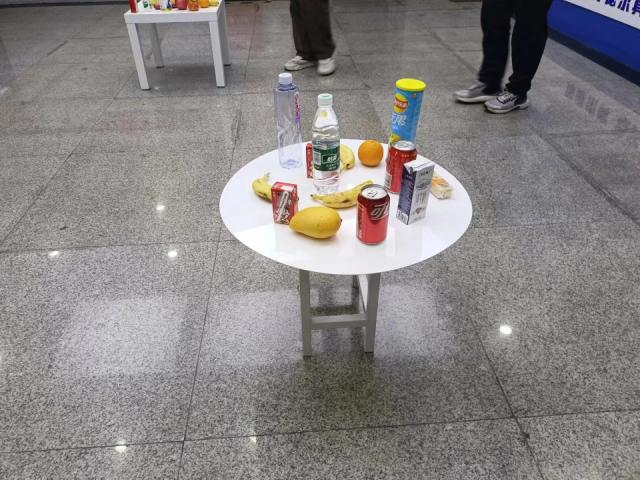Canned_drinks: (354, 182, 391, 248), (384, 139, 417, 197)
bottle: (270, 70, 306, 170), (312, 91, 341, 195)
cylinder: (390, 75, 424, 162)
drink_box: (398, 157, 433, 228), (270, 181, 298, 226), (305, 143, 316, 180)
